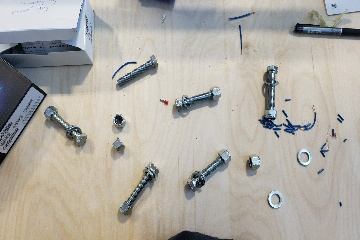Bolt: (114, 51, 161, 90)
FalseAssembly: (173, 83, 223, 115), (262, 62, 281, 122)
FinishedAssembly: (118, 161, 161, 218), (184, 146, 234, 194), (42, 101, 88, 151)
Nut: (245, 153, 264, 178), (109, 137, 130, 154), (110, 114, 128, 129)
Washer: (263, 187, 287, 211), (293, 147, 313, 167)
